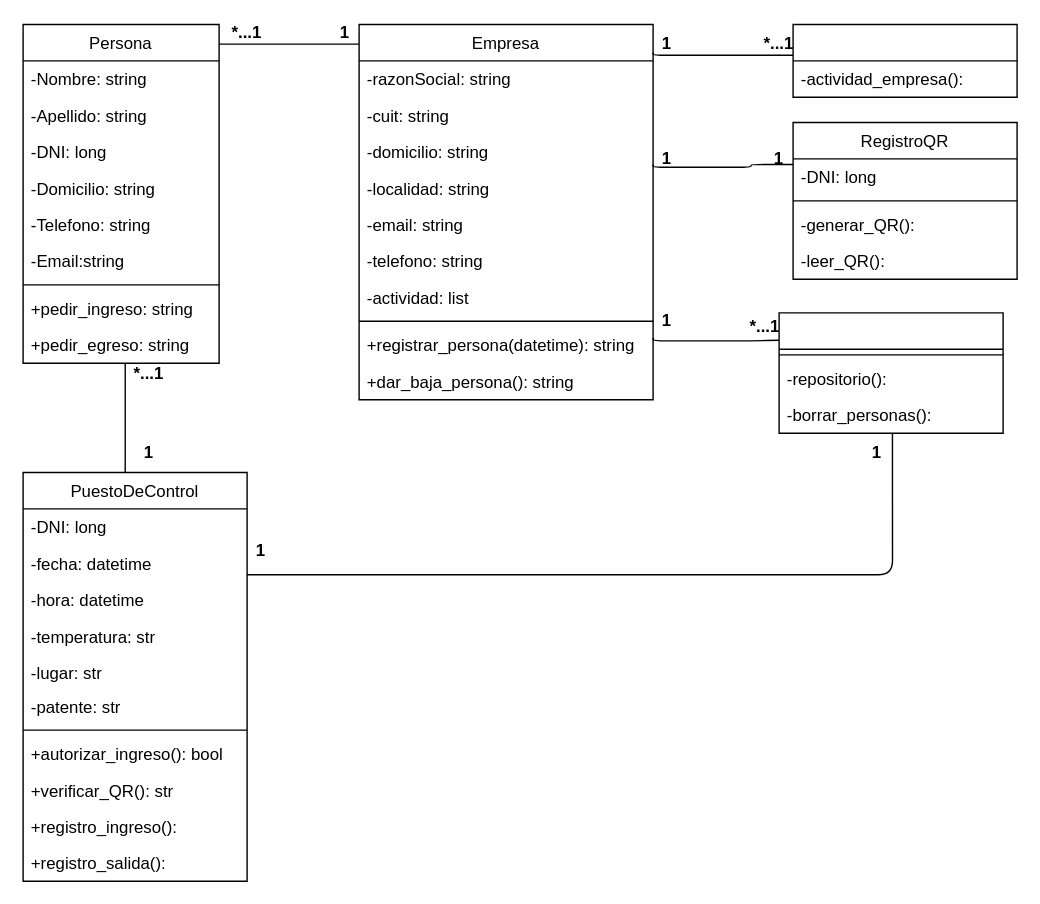
Some shapes in this 1040 by 904 pixel diagram are drawn without their labels. Here are the shapes that lost their labels. From the top down, the box of each, then its label:
(792, 23, 1017, 97): ActividadesAutorizadas
(778, 312, 1003, 433): PersonasAutorizadas
